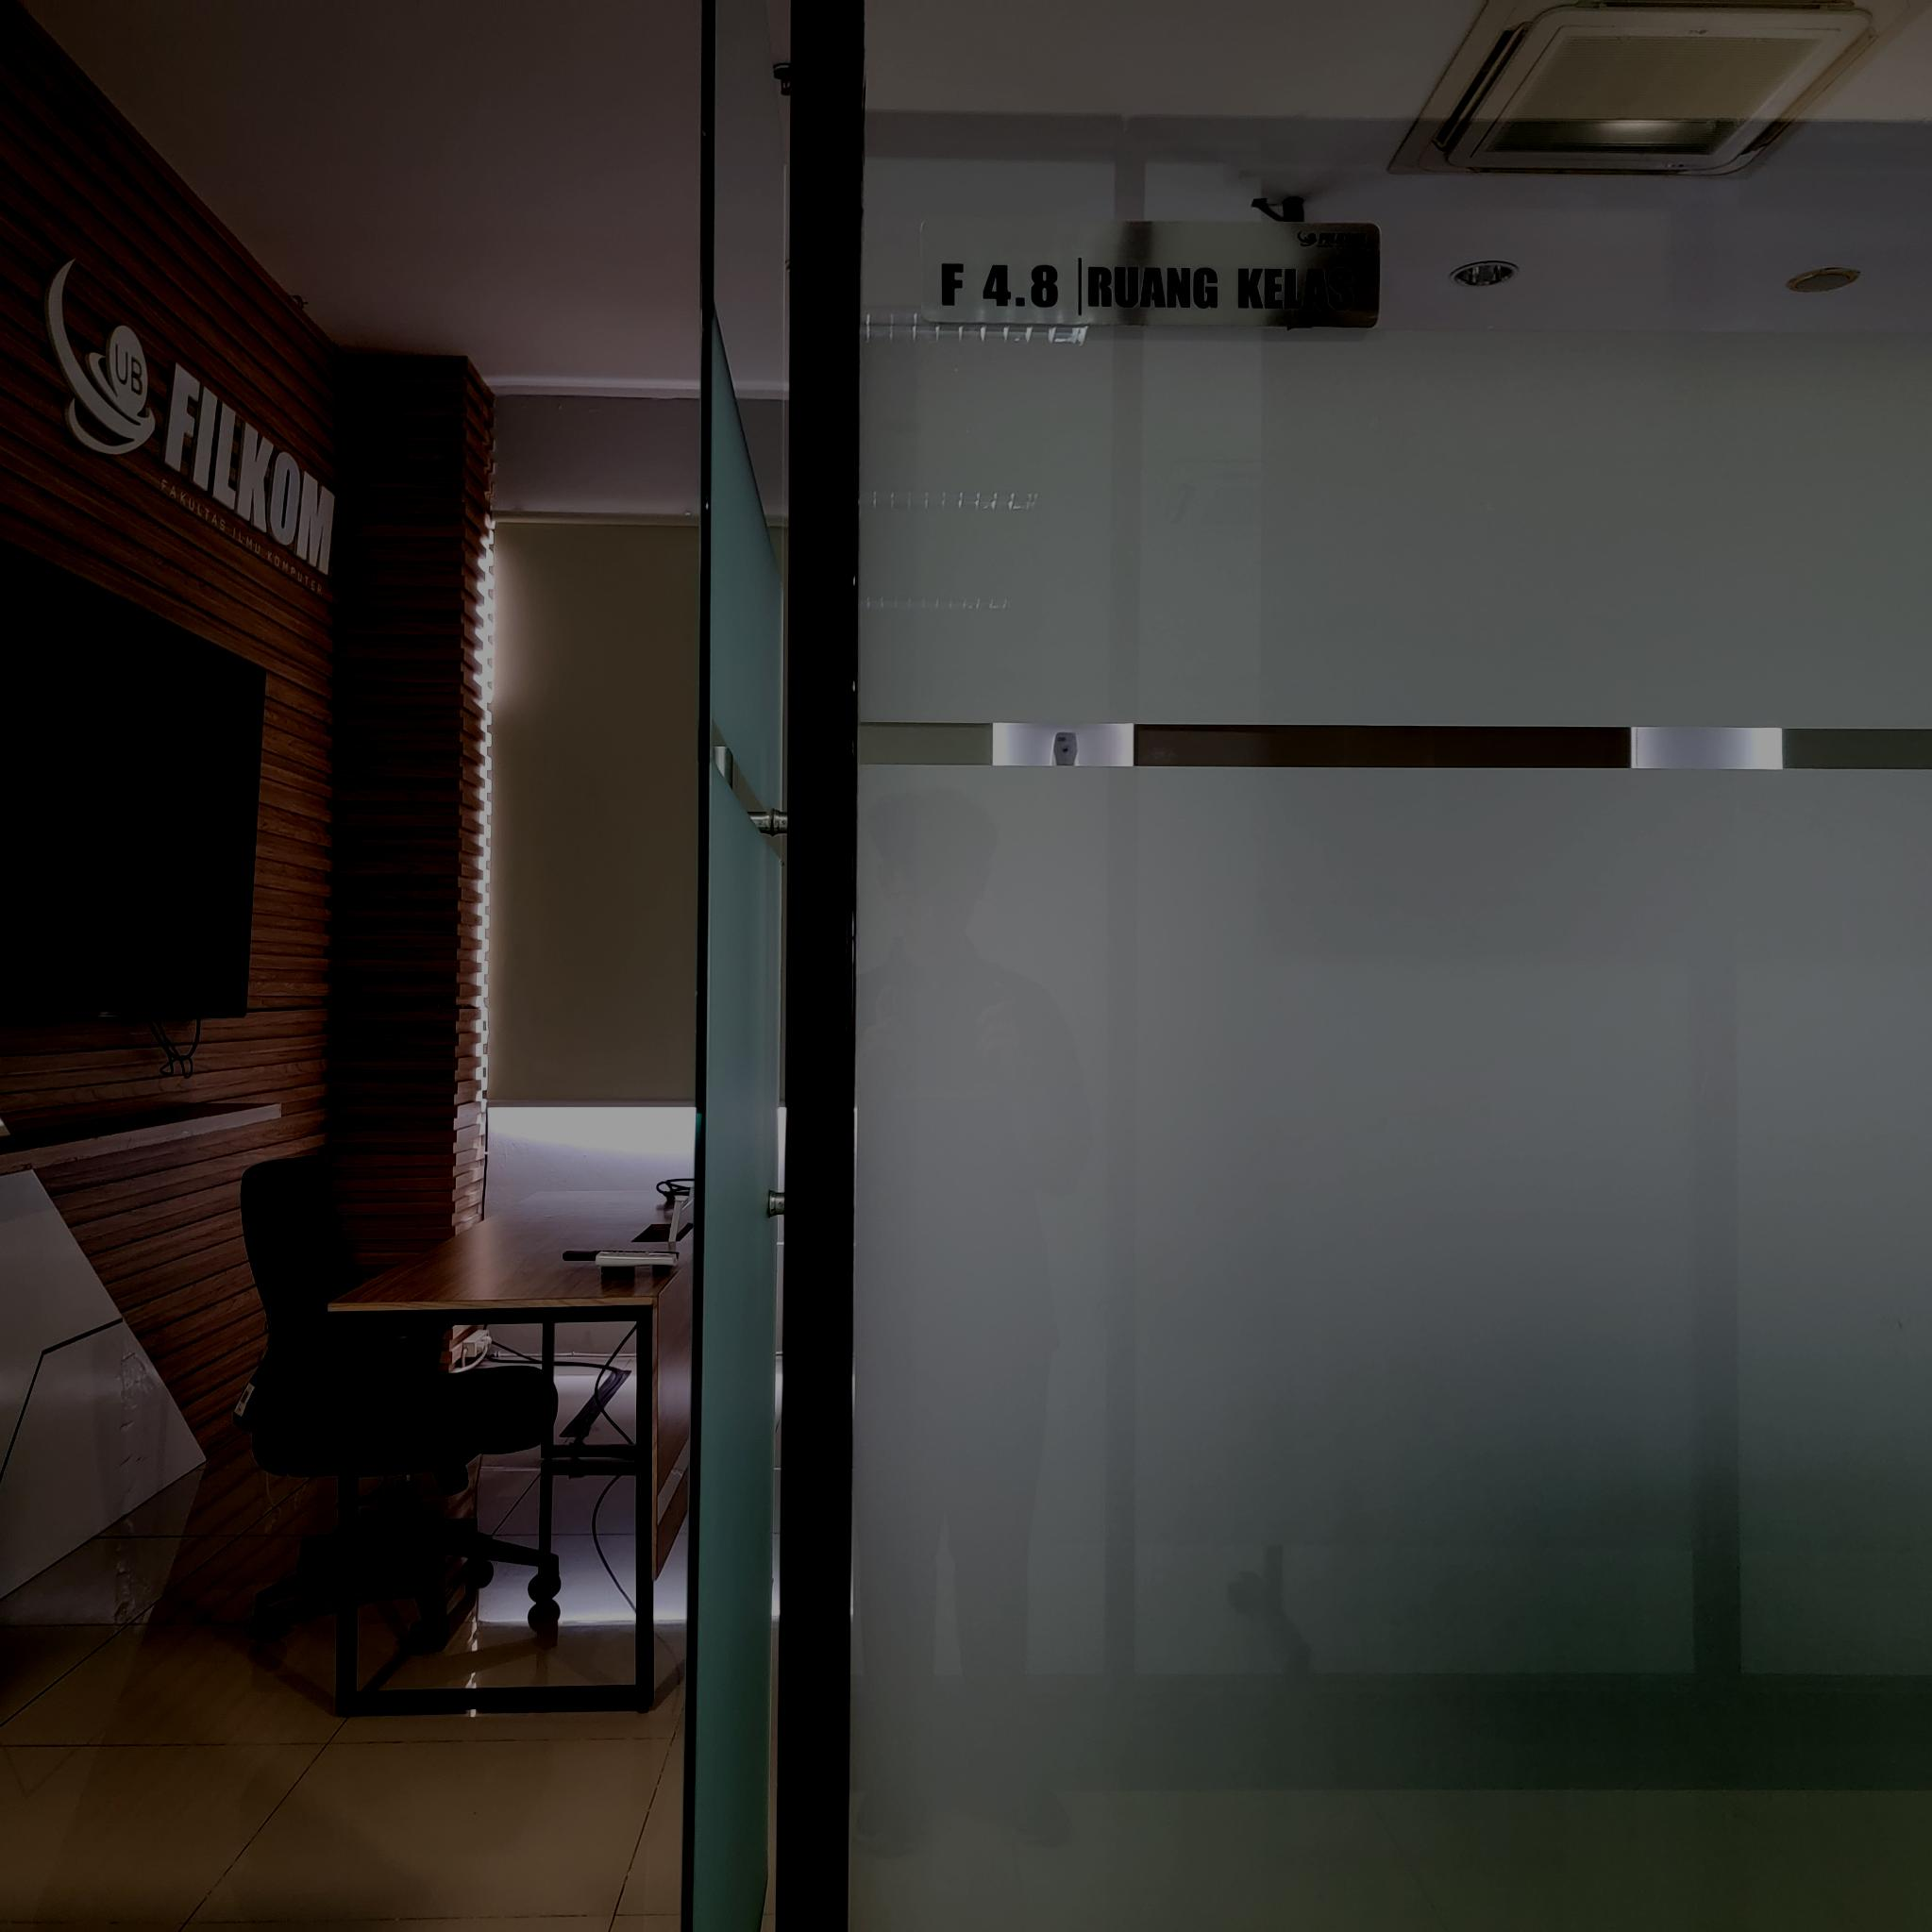plate: (922, 221, 1380, 326)
